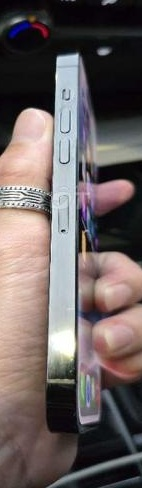scratch: (44, 341, 87, 394)
